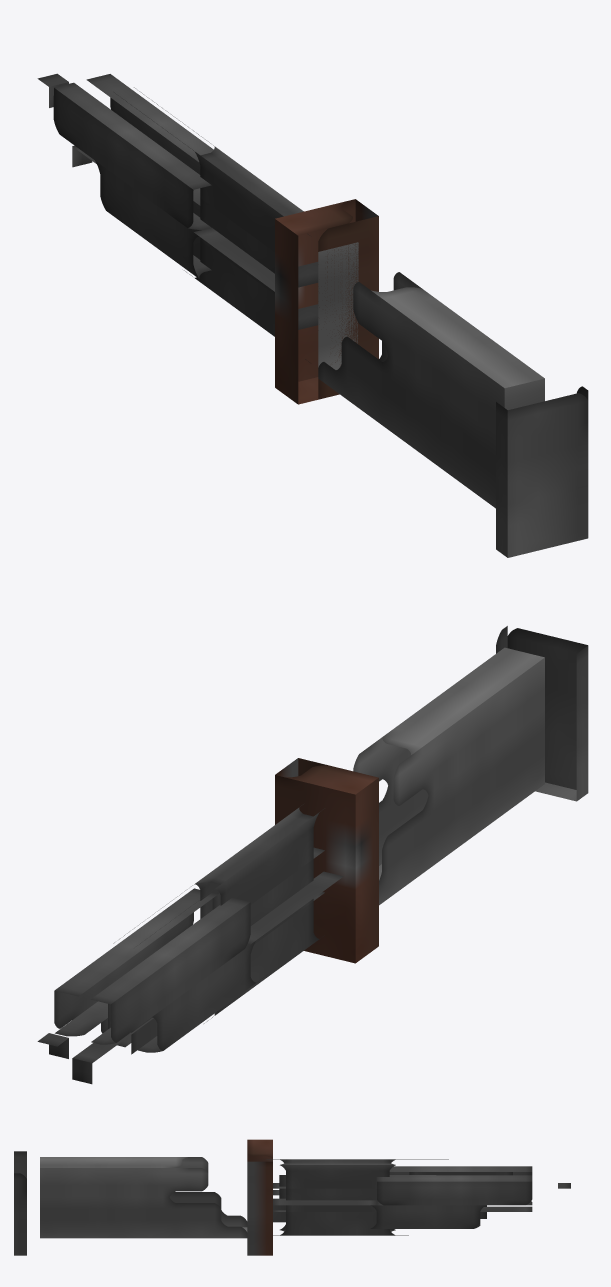
File: bayonet.obj
3 renders of one model, top to bottom at view 1: azimuth 30°, elevation 25°; view 2: azimuth 150°, elevation 25°; view 3: azimuth 270°, elevation 25°, orthographic. The views are drawn at different scales.
Visible parts, largest first — view 1: bayonet; view 2: bayonet; view 3: bayonet.
Boxes of the visible parts, x1=… form: bayonet: x1=37, y1=73, x2=588, y2=557; bayonet: x1=37, y1=626, x2=588, y2=1084; bayonet: x1=14, y1=1139, x2=570, y2=1255.
Bounding box in the file's own units: 0.1875 × 0.2812 × 1.41.
